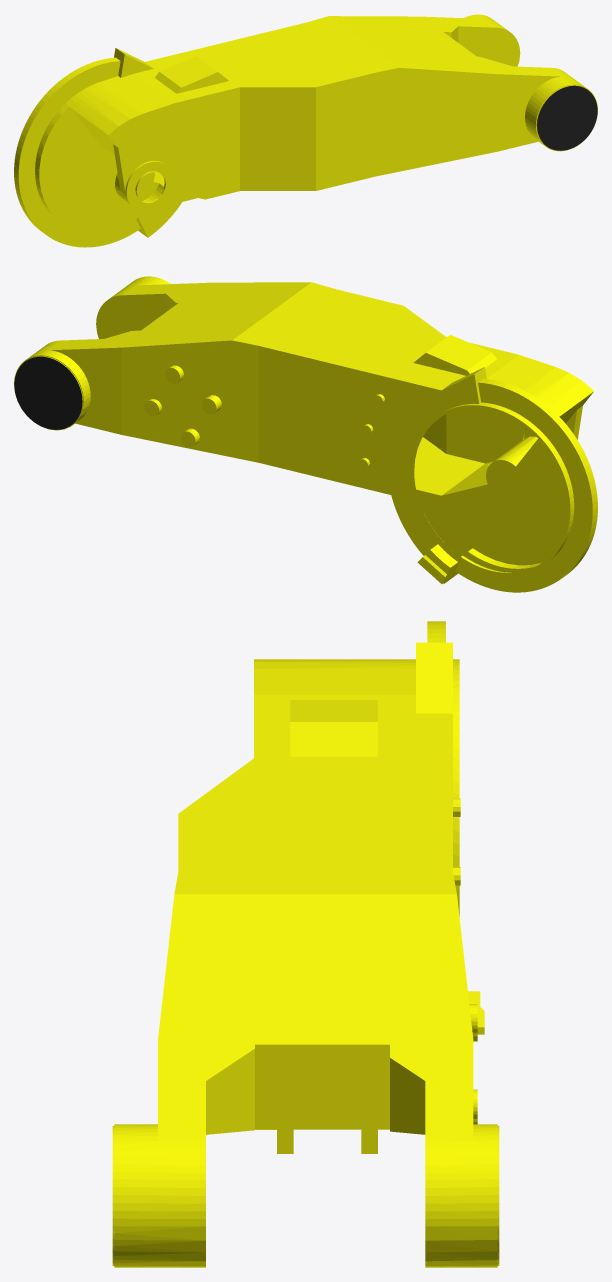
3 renders of one model, top to bottom at view 1: azimuth 30°, elevation 25°; view 2: azimuth 150°, elevation 25°; view 3: azimuth 270°, elevation 25°, orthographic. The views are drawn at different scales.
Visible parts, largest first — view 1: node; view 2: node; view 3: node.
Boxes of the visible parts, <box> form: node: <box>14,14,597,247</box>; node: <box>14,276,597,592</box>; node: <box>112,621,499,1267</box>.
Bounding box in the file's own units: 1373 × 494 × 459.
